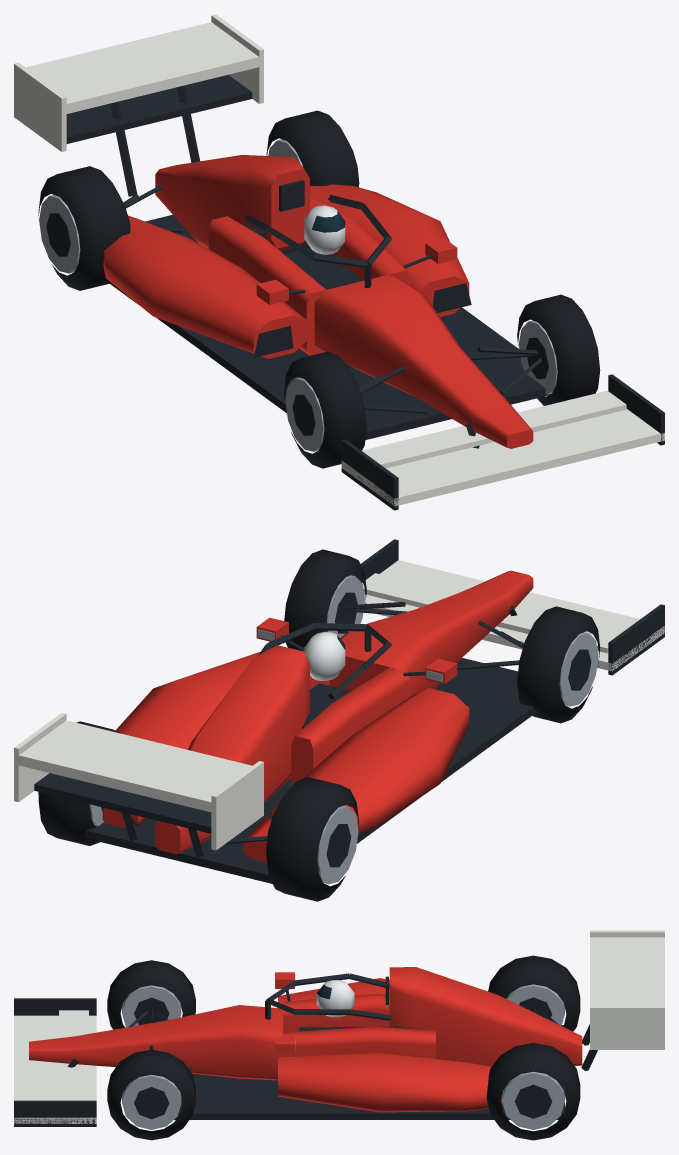
The model's file is formula-lod1.glb.
3 views of the same model, one above another, from view 1: azimuth 30°, elevation 25°; view 2: azimuth 150°, elevation 25°; view 3: azimuth 270°, elevation 25° (orthographic). The views are drawn at different scales.
Visible parts, largest first — view 1: chassis, wing_rear, wing_front, engine, wheel_rr, wheel_fr, wheel_fl, wheel_rl, helmet, mirror_l, mirror_r; view 2: chassis, wing_rear, engine, wing_front, wheel_rr, wheel_fr, wheel_fl, wheel_rl, helmet, mirror_r, mirror_l; view 3: chassis, engine, wing_rear, wing_front, wheel_rl, wheel_fl, wheel_fr, wheel_rr, helmet, mirror_l, mirror_r.
Boxes of the visible parts, bbox=[...] form: chassis: bbox=[103, 85, 550, 448]; wing_rear: bbox=[14, 14, 263, 151]; wing_front: bbox=[341, 374, 664, 510]; engine: bbox=[155, 155, 309, 250]; wheel_rr: bbox=[38, 166, 130, 290]; wheel_fr: bbox=[283, 351, 366, 468]; wheel_fl: bbox=[517, 294, 600, 405]; wheel_rl: bbox=[266, 110, 359, 187]; helmet: bbox=[304, 205, 345, 254]; mirror_l: bbox=[403, 238, 457, 268]; mirror_r: bbox=[256, 279, 305, 304]; chassis: bbox=[83, 570, 536, 883]; wing_rear: bbox=[14, 713, 263, 850]; engine: bbox=[155, 645, 309, 854]; wing_front: bbox=[351, 539, 664, 675]; wheel_rr: bbox=[266, 777, 359, 901]; wheel_fr: bbox=[517, 606, 600, 723]; wheel_fl: bbox=[284, 549, 366, 650]; wheel_rl: bbox=[38, 721, 121, 845]; helmet: bbox=[304, 631, 345, 680]; mirror_r: bbox=[403, 658, 457, 683]; mirror_l: bbox=[256, 617, 304, 650]; chassis: bbox=[29, 973, 597, 1119]; engine: bbox=[385, 967, 582, 1066]; wing_rear: bbox=[590, 930, 664, 1049]; wing_front: bbox=[14, 998, 96, 1126]; wheel_rl: bbox=[486, 1043, 580, 1140]; wheel_fl: bbox=[107, 1049, 195, 1140]; wheel_fr: bbox=[107, 960, 195, 1029]; wheel_rr: bbox=[488, 955, 580, 1031]; helmet: bbox=[316, 980, 354, 1017]; mirror_l: bbox=[275, 1037, 295, 1053]; mirror_r: bbox=[275, 972, 295, 1001].
Bounding box in the file's own units: 2.08 × 1.07 × 5.2.
